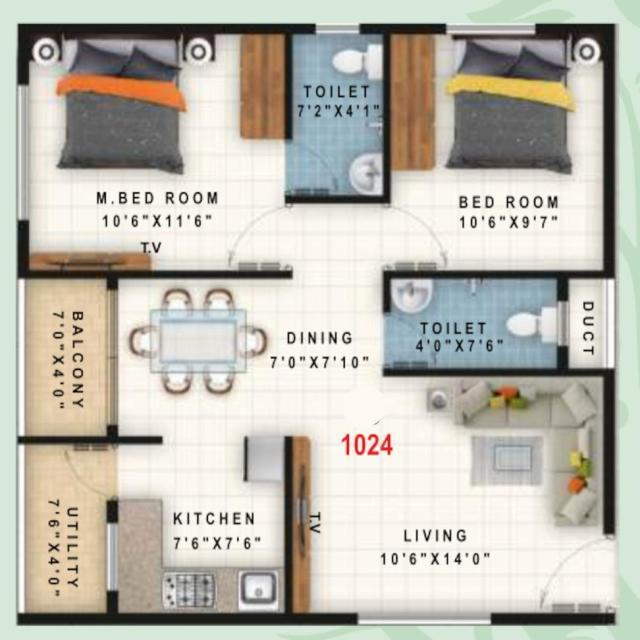Balcony-Sitout: (18, 280, 121, 443)
Bedroom: (383, 24, 618, 279)
Bedroom with Toilet: (16, 21, 386, 280)
Dining: (128, 288, 267, 399)
Enterance-Foyer: (526, 527, 616, 622)
Kitchen: (116, 438, 289, 624)
Living: (284, 373, 619, 629)
Toilet: (385, 279, 570, 372), (293, 34, 382, 195)
Utility: (18, 435, 116, 621)
